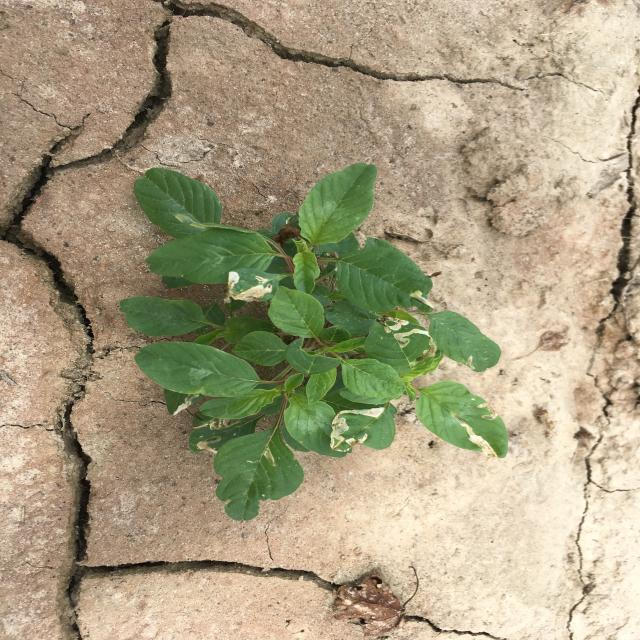PalmerAmaranth: (119, 163, 509, 522)
